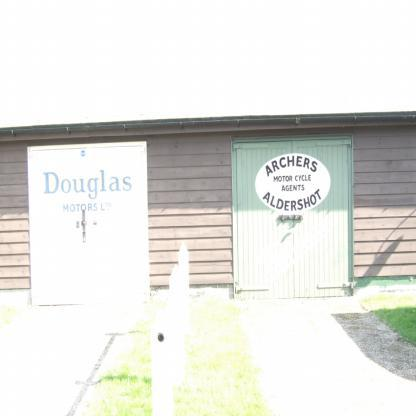door: (233, 140, 294, 299), (30, 150, 89, 306), (292, 140, 350, 298), (88, 145, 144, 304)
hinged: (350, 282, 354, 288), (235, 285, 238, 293), (233, 143, 235, 151), (350, 139, 352, 146)
knob: (82, 220, 86, 226), (94, 220, 96, 226)
